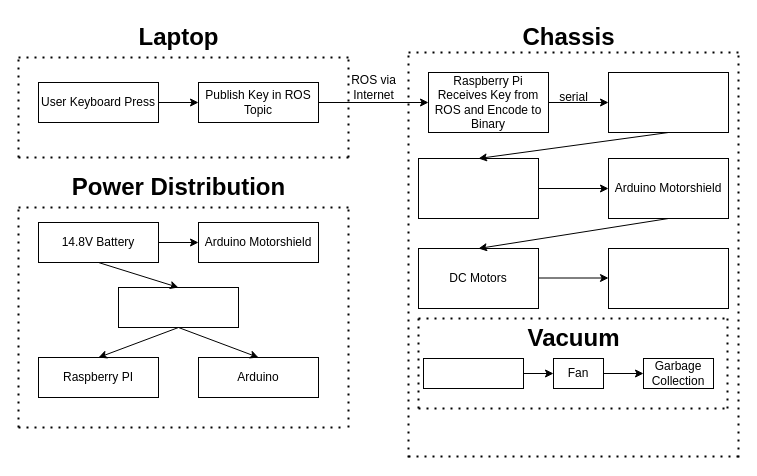
Some shapes in this 757 by 476 pixel diagram are drawn without their labels. The box of each missing label's shape, as (x1, y1, x2, y2) in pixels:
15V-5V Buck Convert: (118, 286, 238, 328)
Arduino Receives Desired Drive Direction: (608, 72, 728, 132)
Convert Drive Direction to Motor Speeds and Directions: (418, 158, 538, 218)
Power and PWM: (422, 358, 524, 388)
Wheels: (608, 248, 728, 308)
